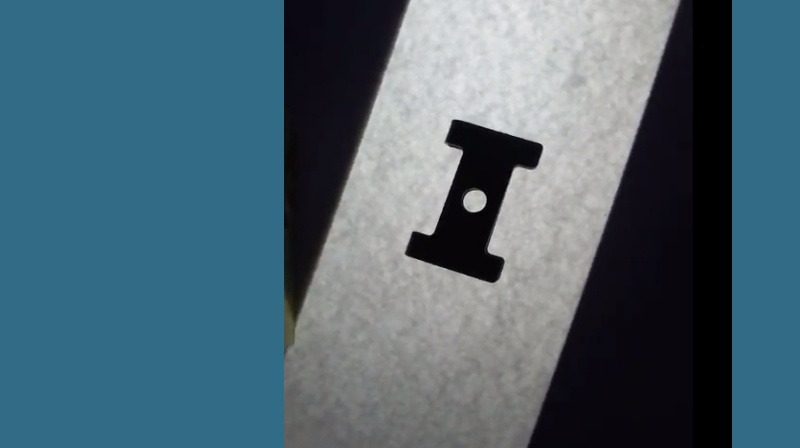O002: (403, 116, 544, 287)
